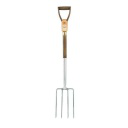Fork: (46, 3, 79, 121)
